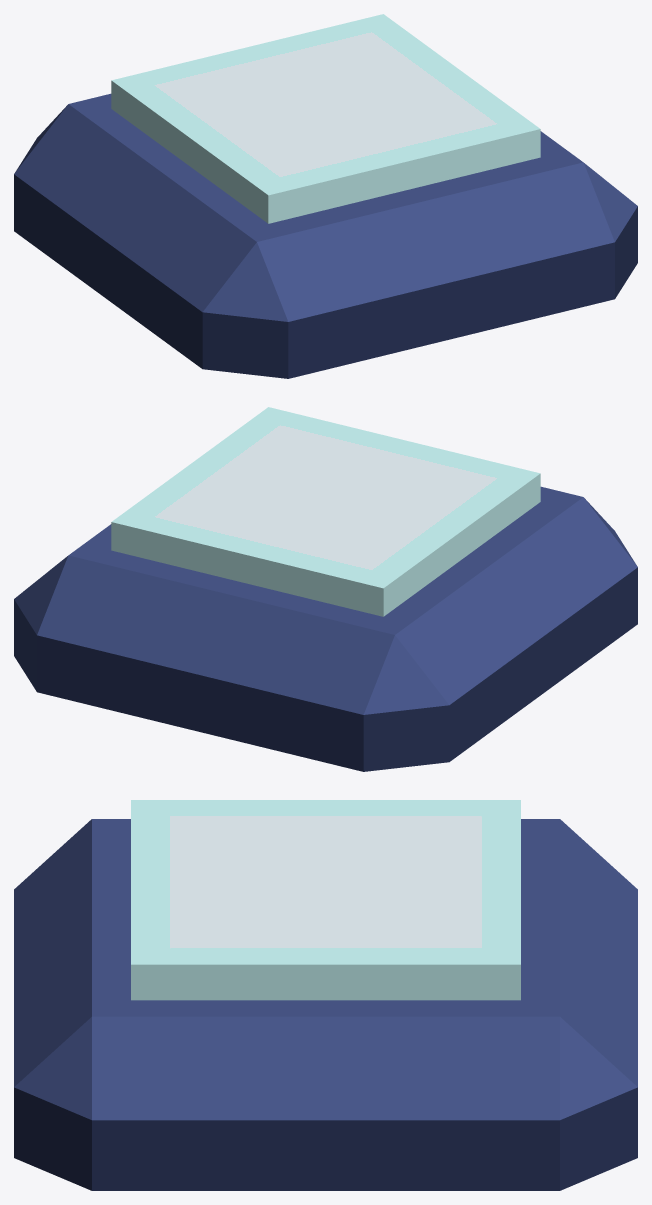
The model's file is teleportPad.fbx.
3 renders of one model, top to bottom at view 1: azimuth 30°, elevation 25°; view 2: azimuth 150°, elevation 25°; view 3: azimuth 270°, elevation 25°, orthographic. The views are drawn at different scales.
Parts seen in each view (by area): view 1: beveled_cuboid; view 2: beveled_cuboid; view 3: beveled_cuboid.
Boxes of the visible parts, x1,y1,x2,y2 form: beveled_cuboid: (14, 14, 637, 378); beveled_cuboid: (14, 407, 637, 771); beveled_cuboid: (14, 800, 637, 1190).
Size of the model in its own units: 100 by 31.25 by 100.
Materials: 1 (1 with a texture image).
